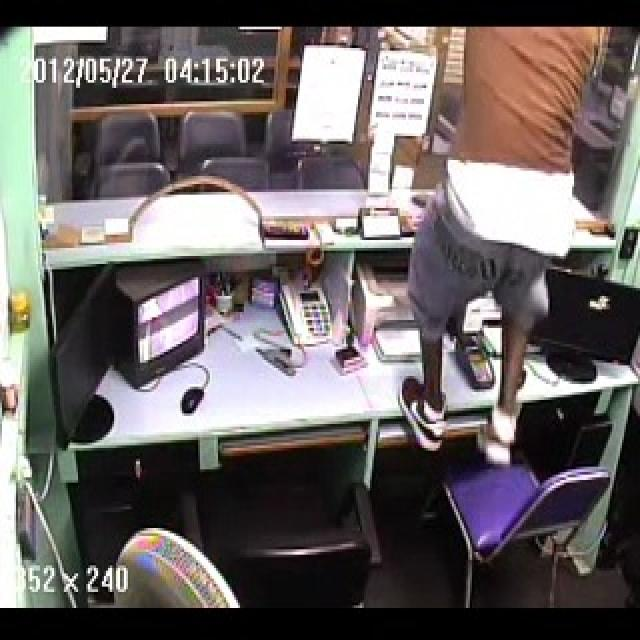thief: (445, 31, 598, 495)
